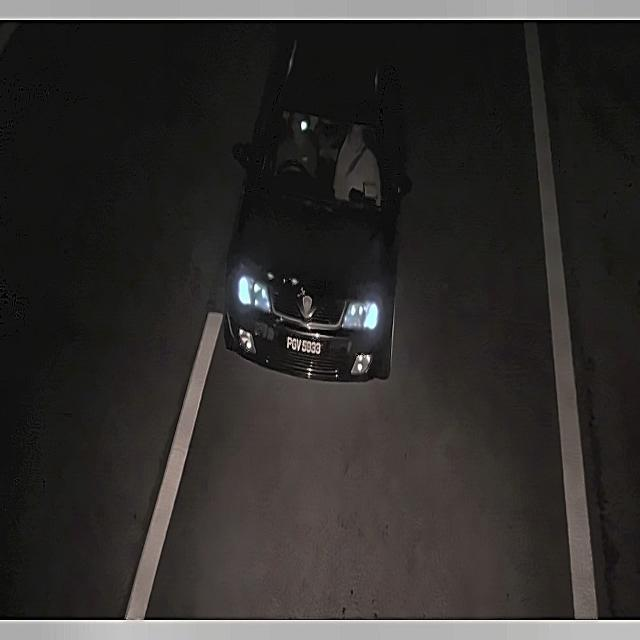car: (284, 333, 324, 357)
